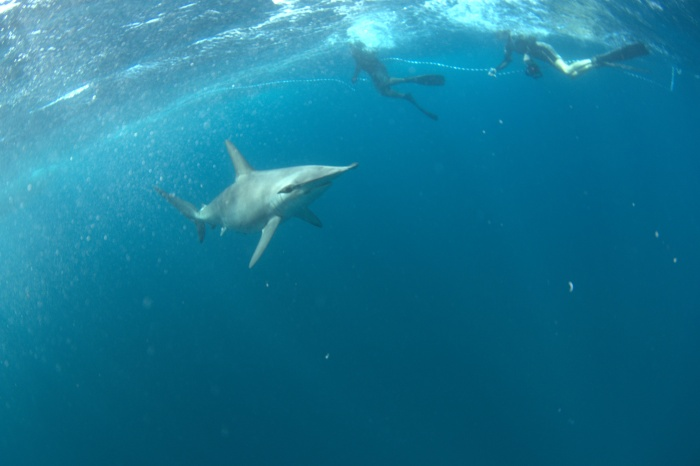Hammer: (144, 132, 368, 276)
